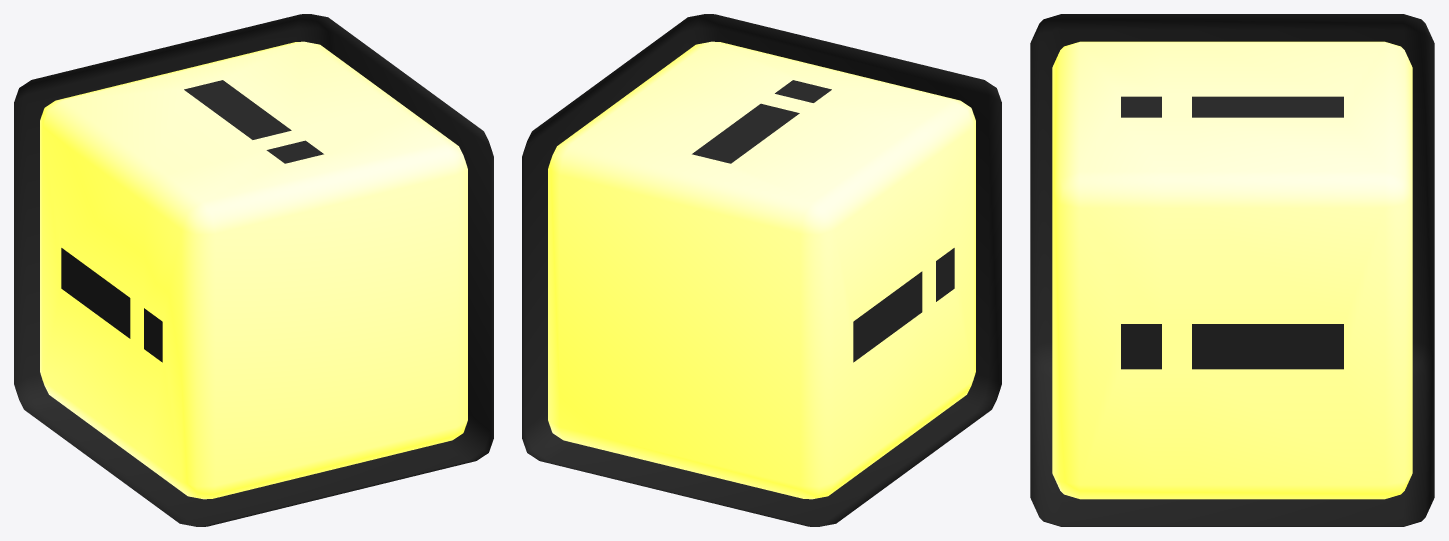
Rendered from ItemBox.fbx.
3 views of the same model, side by side, from view 1: azimuth 30°, elevation 25°; view 2: azimuth 150°, elevation 25°; view 3: azimuth 270°, elevation 25° (orthographic). The views are drawn at different scales.
Visible parts, largest first — view 1: Cube.067; view 2: Cube.067; view 3: Cube.067.
Part boxes in pixels (box(x1,y1,x2,y2)): Cube.067: box(14, 14, 493, 526); Cube.067: box(522, 14, 1001, 526); Cube.067: box(1030, 14, 1434, 526).
Bounding box in the file's own units: 311 × 311 × 311.
